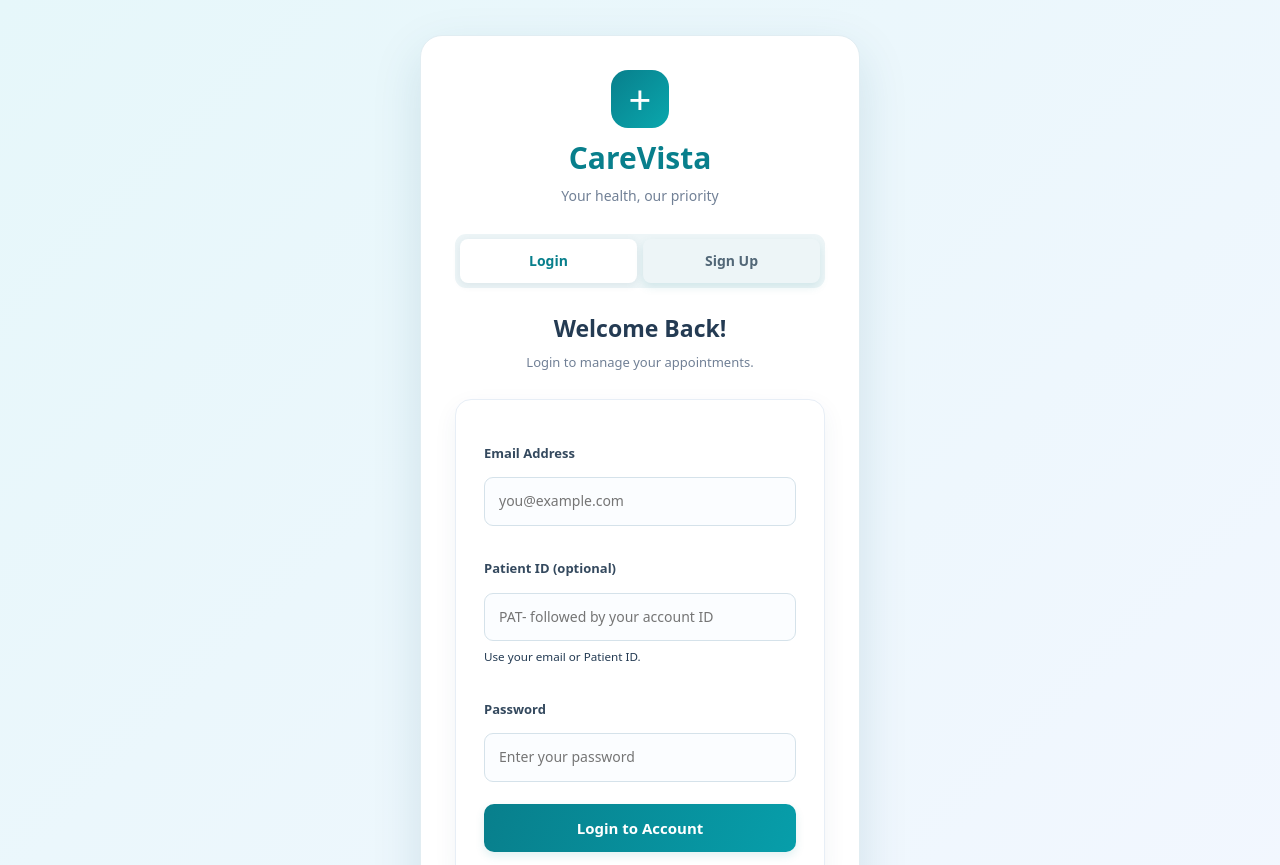
Test case: login rejects short password before sending request
In the field labelled "Email Address": (640, 502) [484, 477, 796, 526], type "patient@example.com"
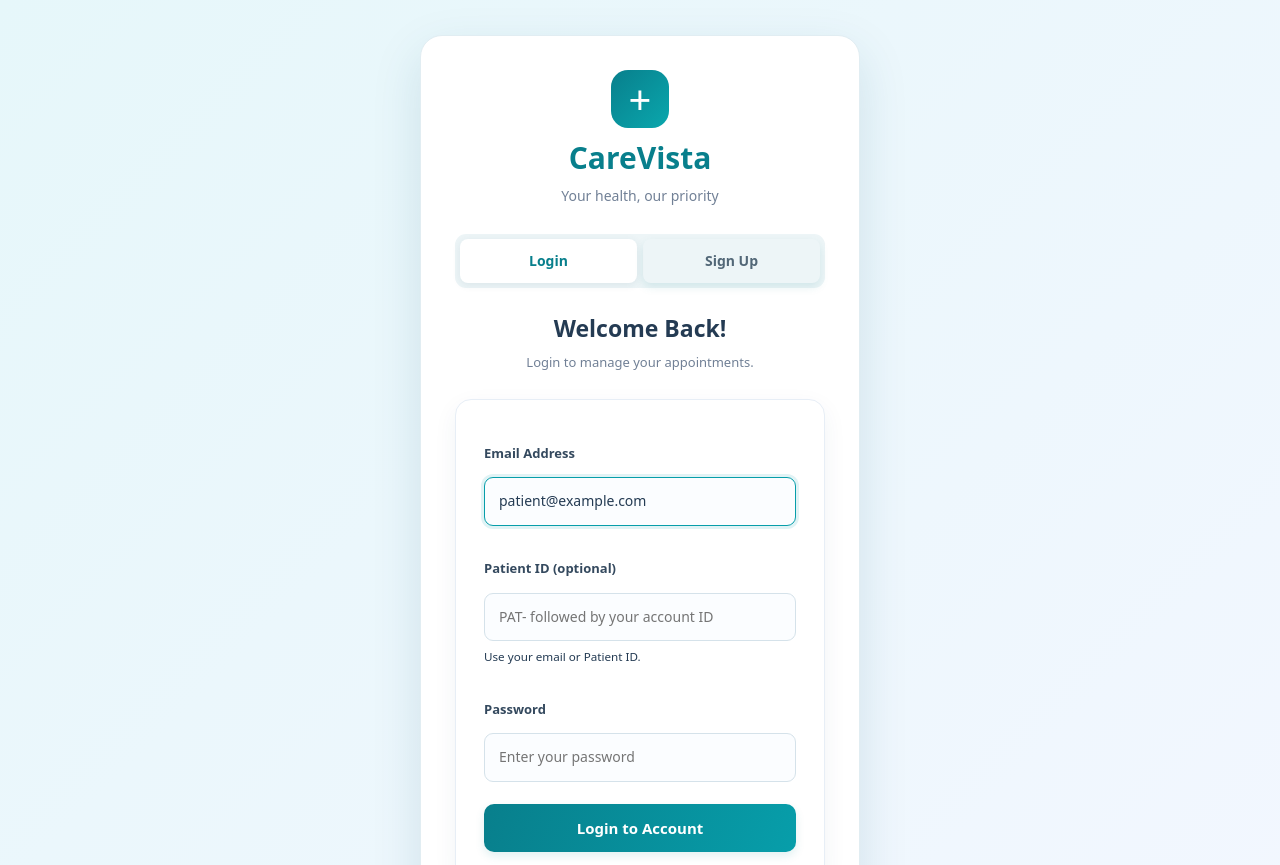
In the password field labelled "Password": (640, 758) [484, 733, 796, 782], type "123"
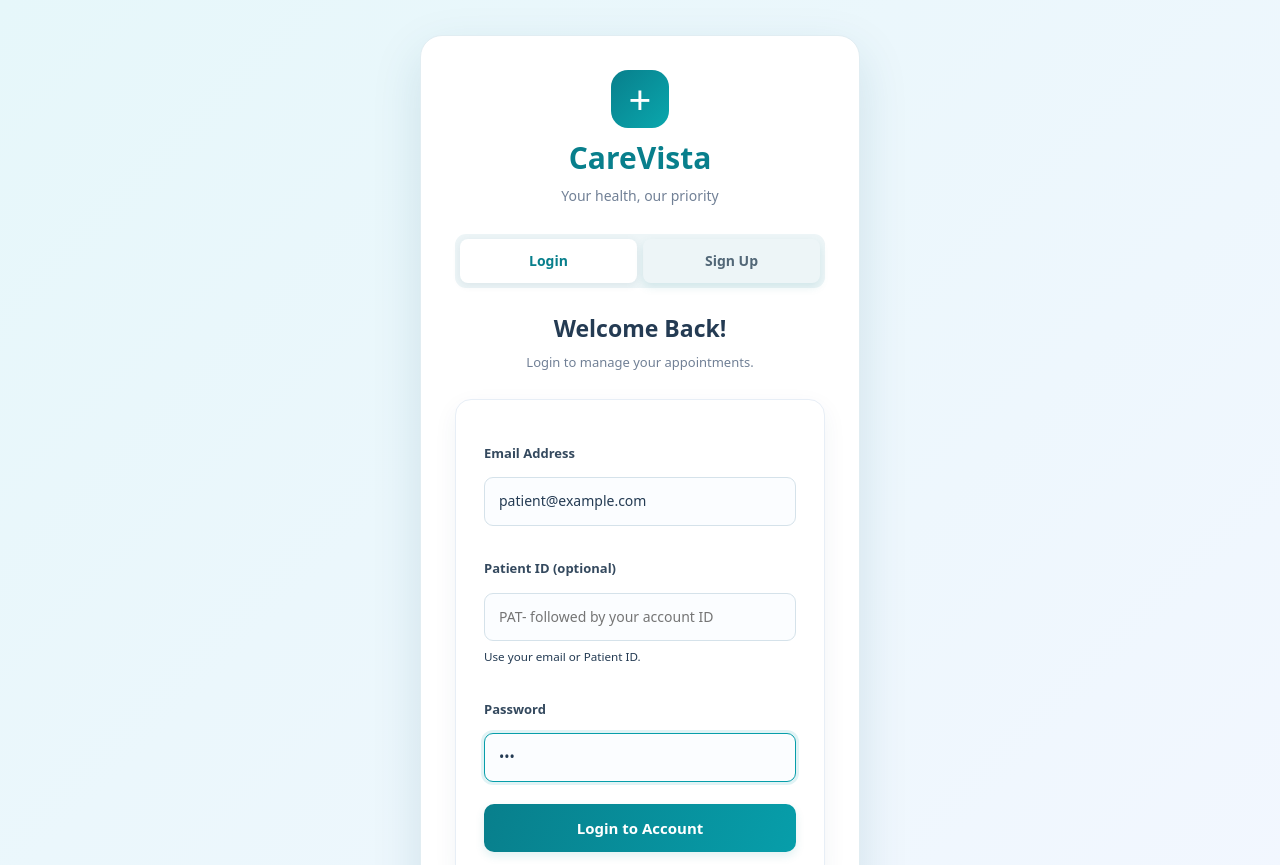
Click the button "Login to Account": (640, 828) [484, 804, 796, 852]
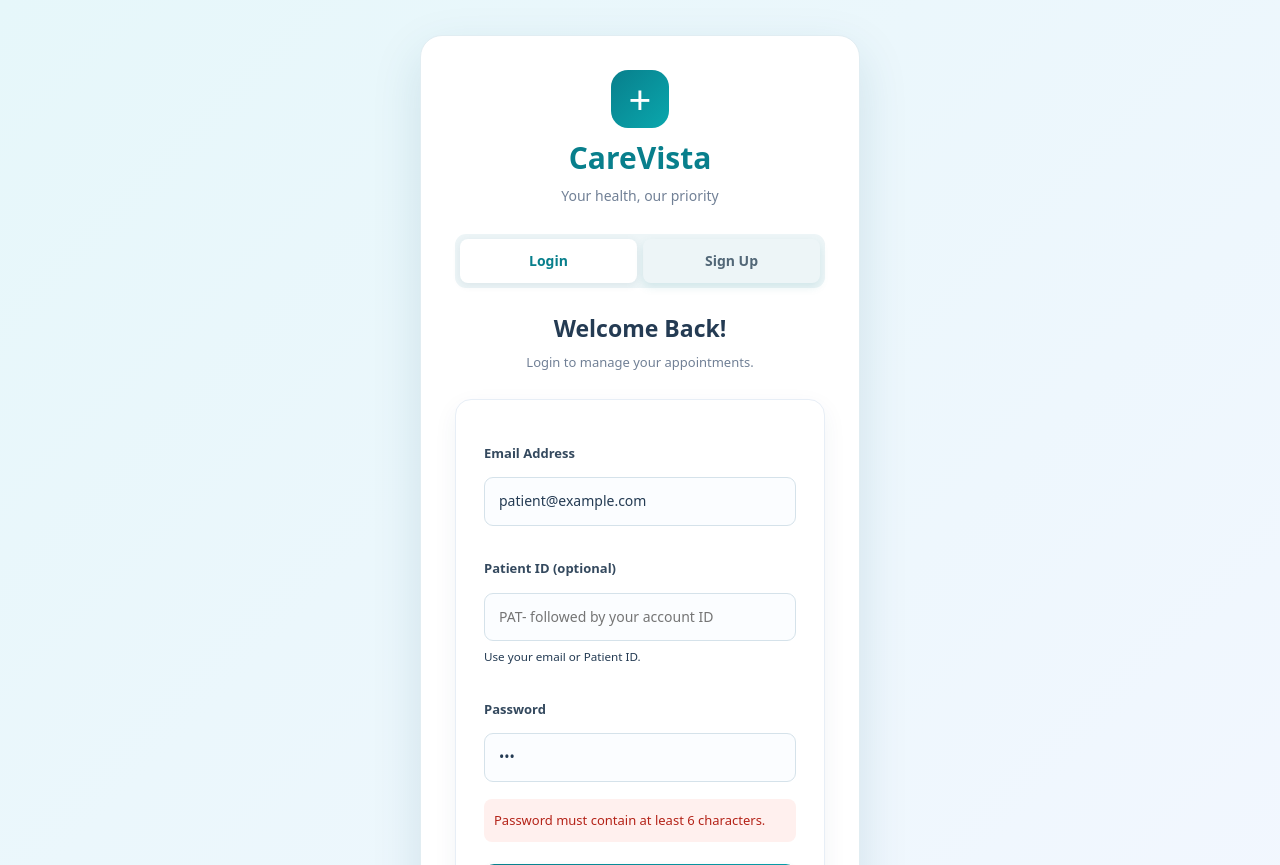
Now the text "Password must contain at least 6 characters." is shown, box [484, 799, 796, 842]
